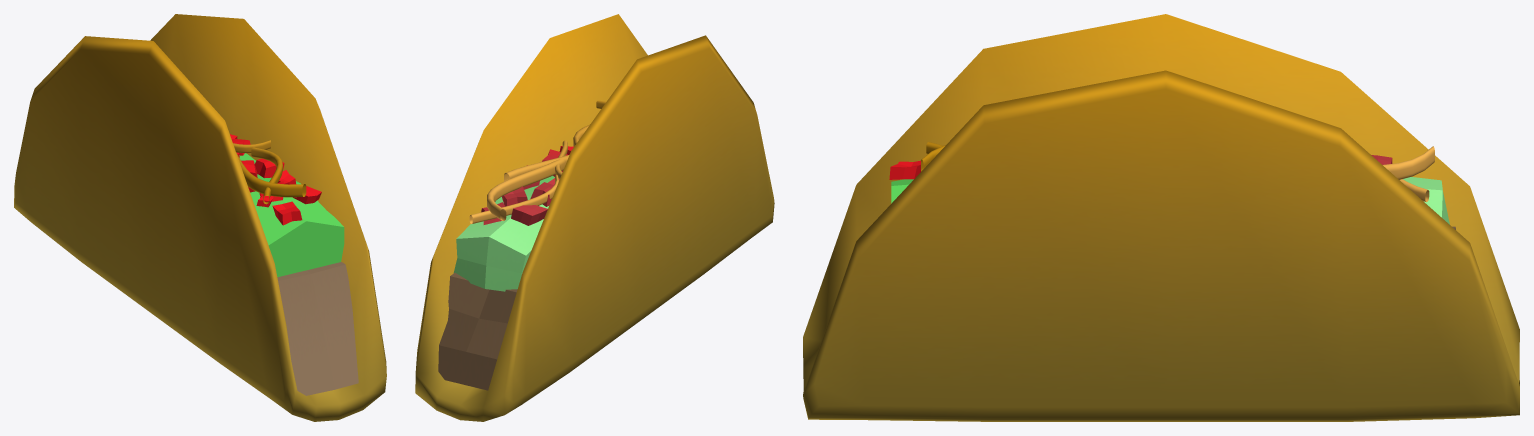
Rendered from TacoMushroom.glb.
The picture shows the model from 3 angles, left to right: view 1: azimuth 30°, elevation 25°; view 2: azimuth 150°, elevation 25°; view 3: azimuth 270°, elevation 25°; orthographic projection. The views are drawn at different scales.
Parts seen in each view (by area): view 1: TacoMushroom; view 2: TacoMushroom; view 3: TacoMushroom.
Part boxes in pixels (left/top/right/bottom): TacoMushroom: left=14, top=14, right=386, bottom=421; TacoMushroom: left=415, top=14, right=774, bottom=421; TacoMushroom: left=803, top=14, right=1519, bottom=421.
Size of the model in its own units: 0.0682 by 0.1881 by 0.3307.
Materials: 1 (1 with a texture image).
